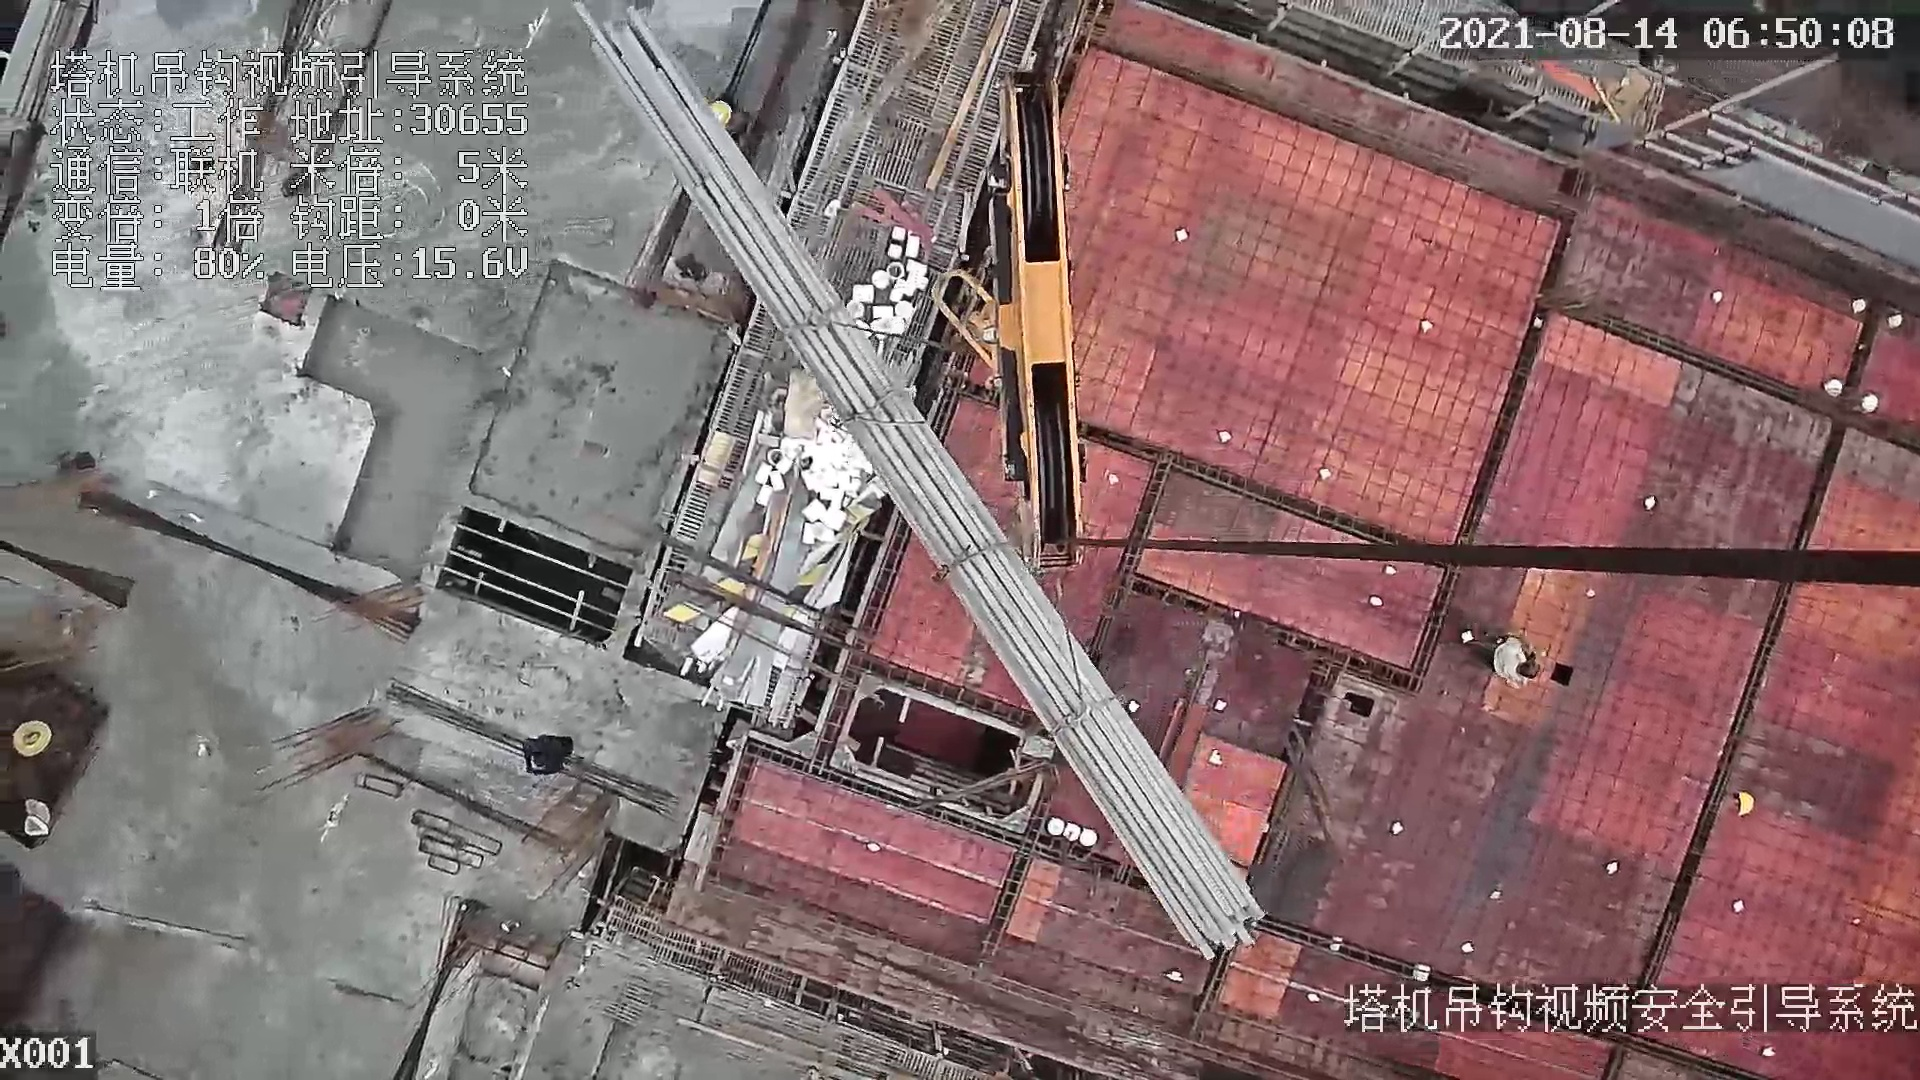helmet: (1726, 780, 1766, 817)
hook: (932, 68, 1090, 580)
person: (1465, 622, 1546, 686), (517, 721, 586, 783)
